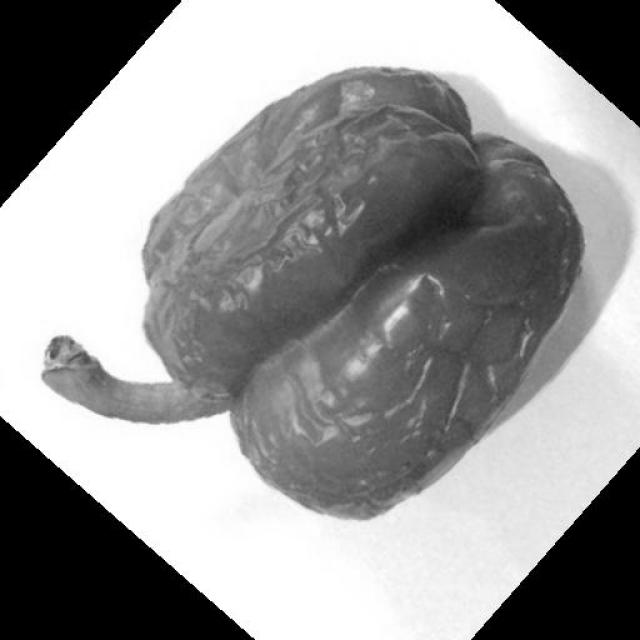Stale_Capsicum: (131, 88, 556, 496)
